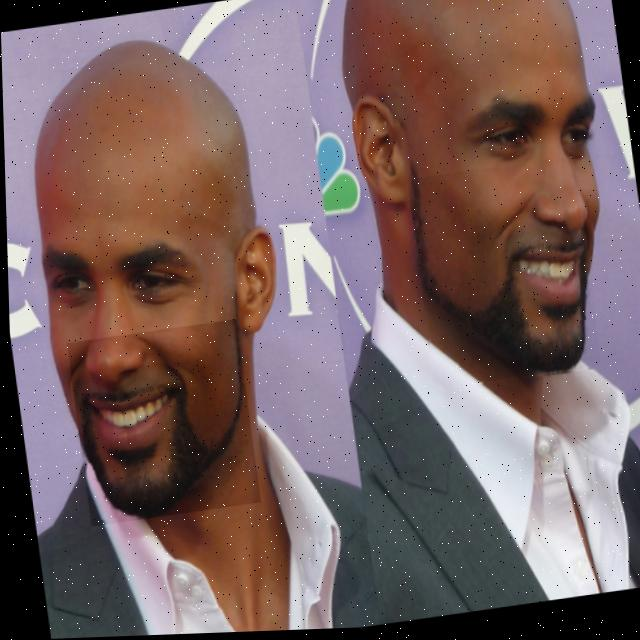beard: (411, 182, 587, 377), (77, 321, 242, 519)
